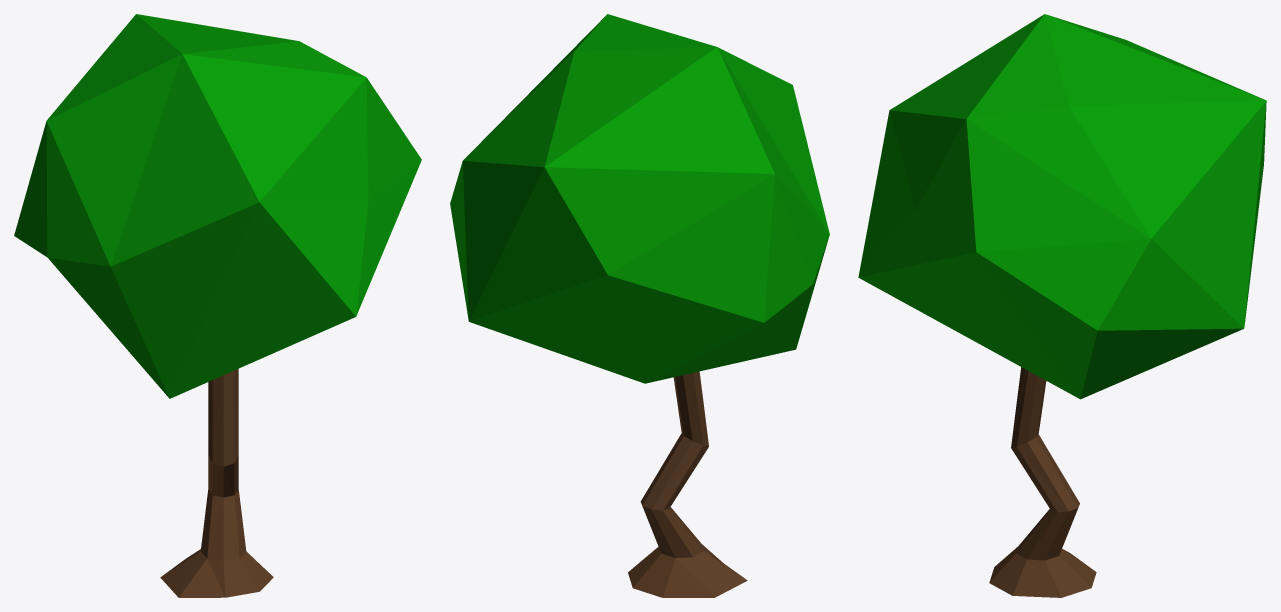
File: Tree3.FBX
3 renders of one model, left to right at view 1: azimuth 30°, elevation 25°; view 2: azimuth 150°, elevation 25°; view 3: azimuth 270°, elevation 25°, orthographic. The views are drawn at different scales.
Visible parts, largest first — view 1: Tree3; view 2: Tree3; view 3: Tree3.
Boxes of the visible parts, box(x1,y1,x2,y2) form: Tree3: box(14, 14, 421, 597); Tree3: box(450, 14, 829, 597); Tree3: box(858, 14, 1266, 597).
Bounding box in the file's own units: 142 × 205 × 140.
1 material, 1 textured.
